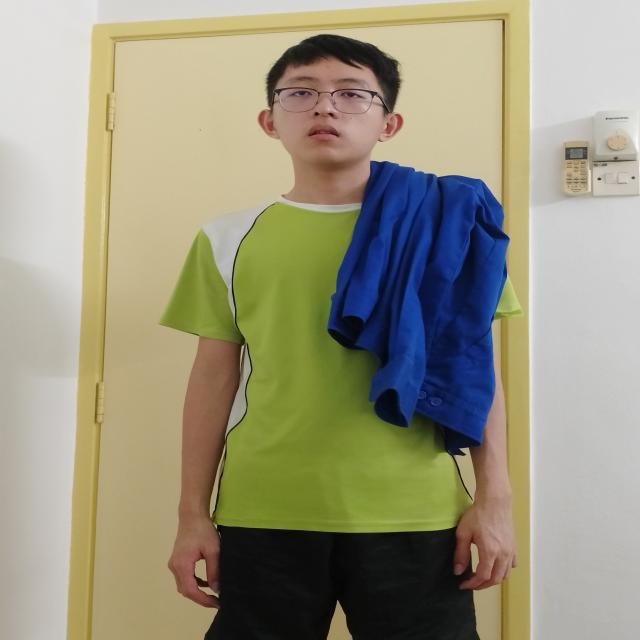person_without_labcoat: (160, 34, 520, 640)
